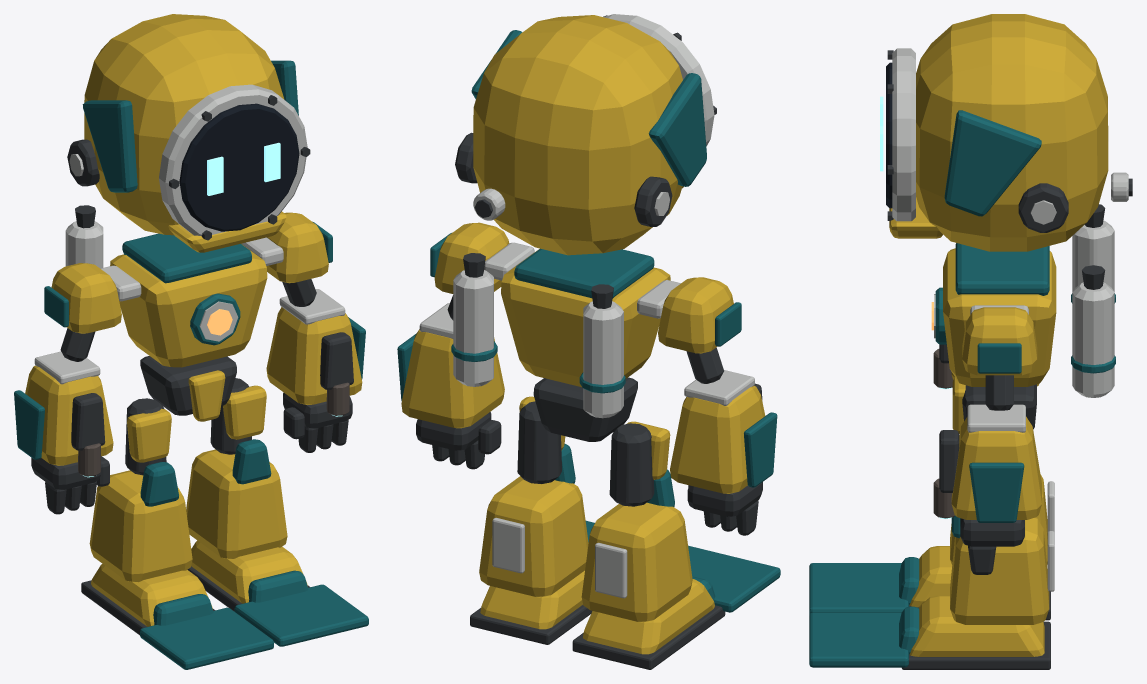
File: mergulhador.glb
3 renders of one model, left to right at view 1: azimuth 30°, elevation 25°; view 2: azimuth 150°, elevation 25°; view 3: azimuth 270°, elevation 25°, orthographic. The views are drawn at different scales.
Visible parts, largest first — view 1: cabeca_p.001, visor.001, tronco_p.001, bota.003, bota.002, aro_escotilha, antebraco.002, pe_de_pato.001, pe_de_pato, antebraco.003, gola.001, placa_lado.003 (+39 smaller); view 2: cabeca_p.001, tronco_p.001, bota.003, bota.002, antebraco.003, antebraco.002, gola.001, cilindro_ar.001, cilindro_ar, ombro_p.003, pe.003, placa_lado.003 (+27 smaller); view 3: cabeca_p.001, bota.002, placa_lado.002, tronco_p.001, pe_de_pato, pe.002, antebraco.002, pe_de_pato.001, gola.001, cilindro_ar, aro_escotilha, ombro_p.002 (+24 smaller).
Boxes of the visible parts, x1,y1,x2,y2 form: cabeca_p.001: (84,14,284,235); visor.001: (179,103,299,231); tronco_p.001: (110,244,267,367); bota.003: (89,470,192,582); bota.002: (186,449,287,558); aro_escotilha: (159,84,307,235); antebraco.002: (266,307,362,404); pe_de_pato.001: (140,607,273,669); pe_de_pato: (234,584,368,646); antebraco.003: (25,365,113,465); gola.001: (122,233,251,283); placa_lado.003: (82,100,137,192); cabeca_p.001: (473,15,682,255); tronco_p.001: (501,249,670,387); bota.003: (581,502,692,622); bota.002: (479,476,588,597); antebraco.003: (670,385,765,493); antebraco.002: (401,329,504,428); gola.001: (514,248,654,298); cilindro_ar.001: (583,301,623,418); cilindro_ar: (453,270,493,386); ombro_p.003: (658,277,733,353); pe.003: (583,579,714,654); placa_lado.003: (648,73,706,186); cabeca_p.001: (916,14,1108,251); bota.002: (950,517,1049,624); placa_lado.002: (944,110,1041,216); tronco_p.001: (943,248,1056,386); pe_de_pato: (809,612,908,667); pe.002: (909,595,1044,656); antebraco.002: (951,416,1041,519); pe_de_pato.001: (809,563,908,614); gola.001: (955,243,1049,295); cilindro_ar: (1072,282,1114,397); aro_escotilha: (892,48,915,221); ombro_p.002: (962,307,1037,375).
Size of the model in its own units: 0.692 by 1.13 by 0.552.
